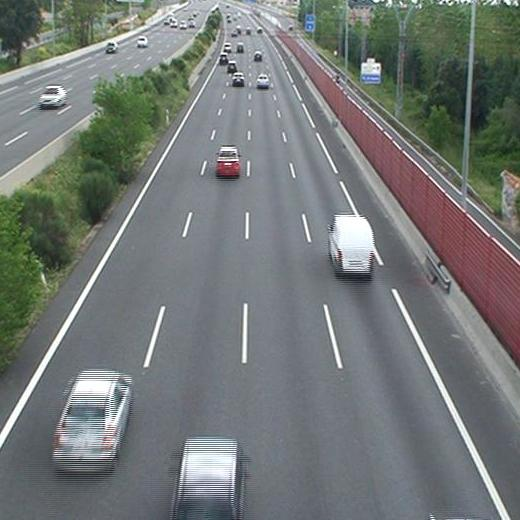car: (53, 371, 132, 469), (216, 146, 240, 175), (257, 74, 269, 87), (232, 72, 243, 84), (252, 51, 263, 61), (226, 61, 237, 70), (236, 43, 245, 52)
van: (328, 216, 372, 274)
